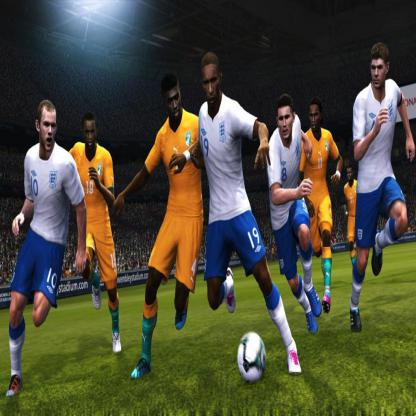face: (202, 64, 221, 108), (41, 111, 57, 152), (164, 88, 182, 120), (279, 106, 293, 139), (372, 58, 387, 88), (84, 122, 97, 150), (310, 105, 321, 131), (347, 168, 353, 181)
